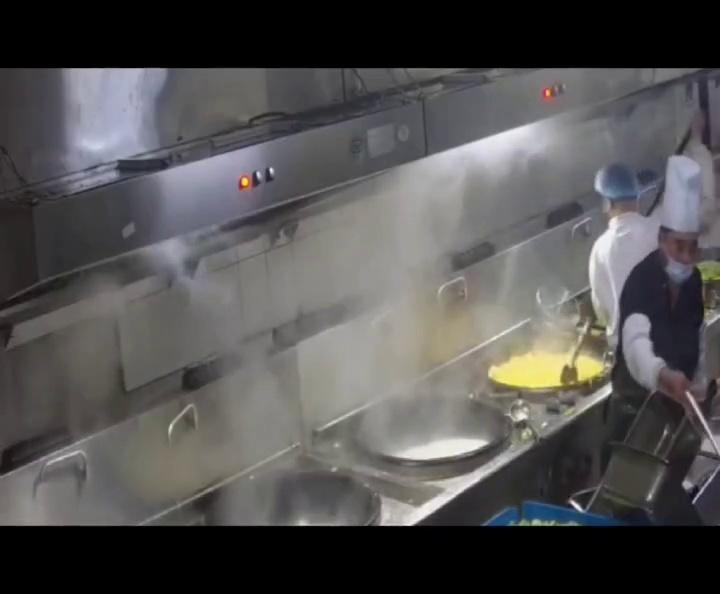gloves: (598, 171, 641, 200)
hairnet: (662, 226, 700, 280)
